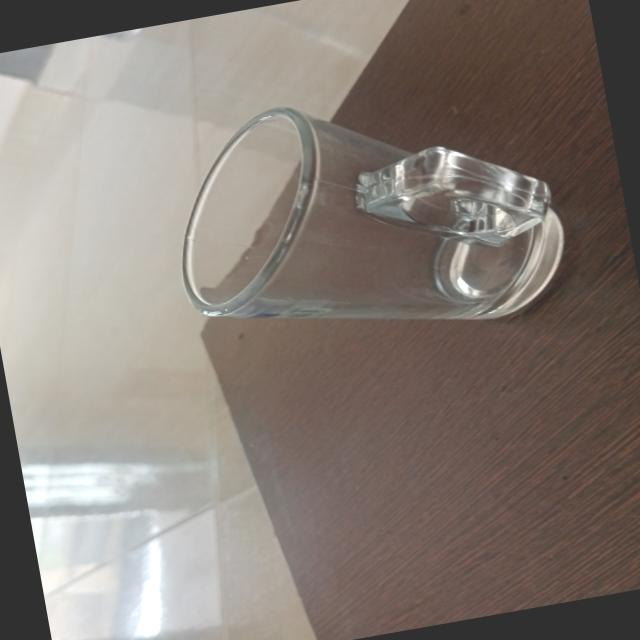glass-VX4N: (155, 59, 578, 370)
